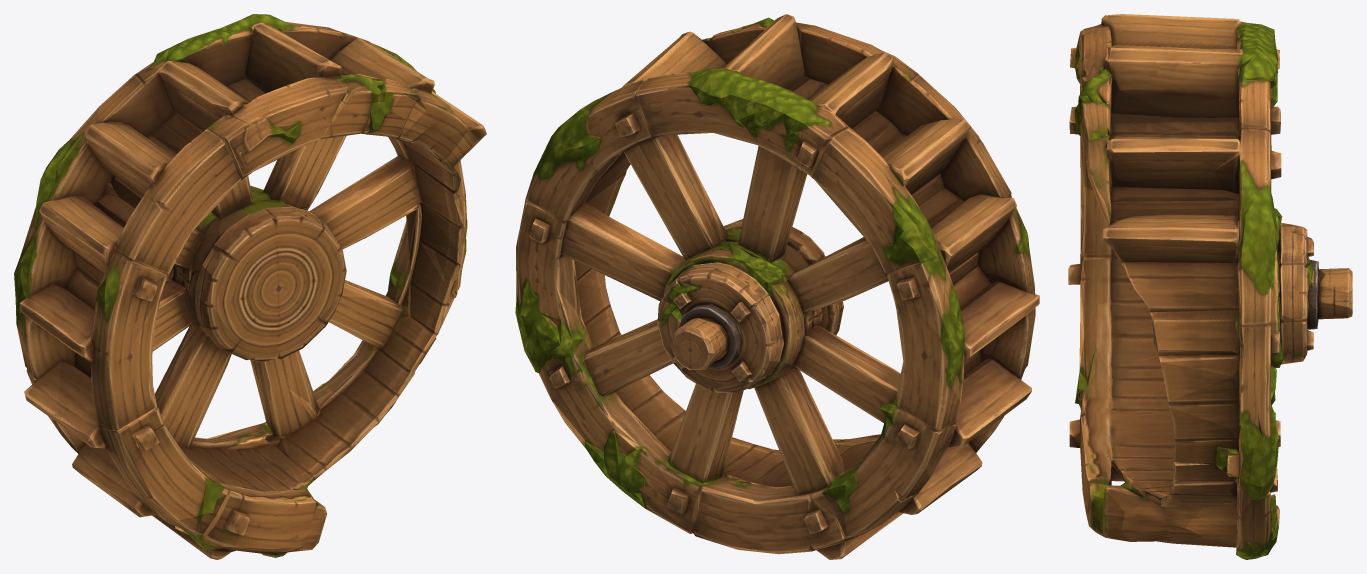
The model's file is mill-wheel.hq.glb.
3 views of the same model, side by side, from view 1: azimuth 30°, elevation 25°; view 2: azimuth 150°, elevation 25°; view 3: azimuth 270°, elevation 25° (orthographic). The views are drawn at different scales.
Parts seen in each view (by area): view 1: output_unwrapped; view 2: output_unwrapped; view 3: output_unwrapped.
Part boxes in pixels (bbox=[...]): output_unwrapped: bbox=[14, 14, 486, 559]; output_unwrapped: bbox=[515, 14, 1039, 559]; output_unwrapped: bbox=[1068, 14, 1352, 559].
Bounding box in the file's own units: 1.86 × 1.9 × 0.972.
Materials: 1 (1 with a texture image).
